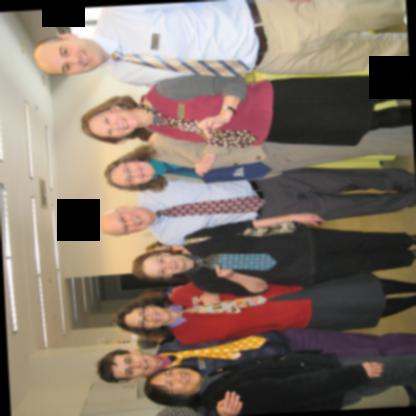handbag: (183, 219, 303, 243)
